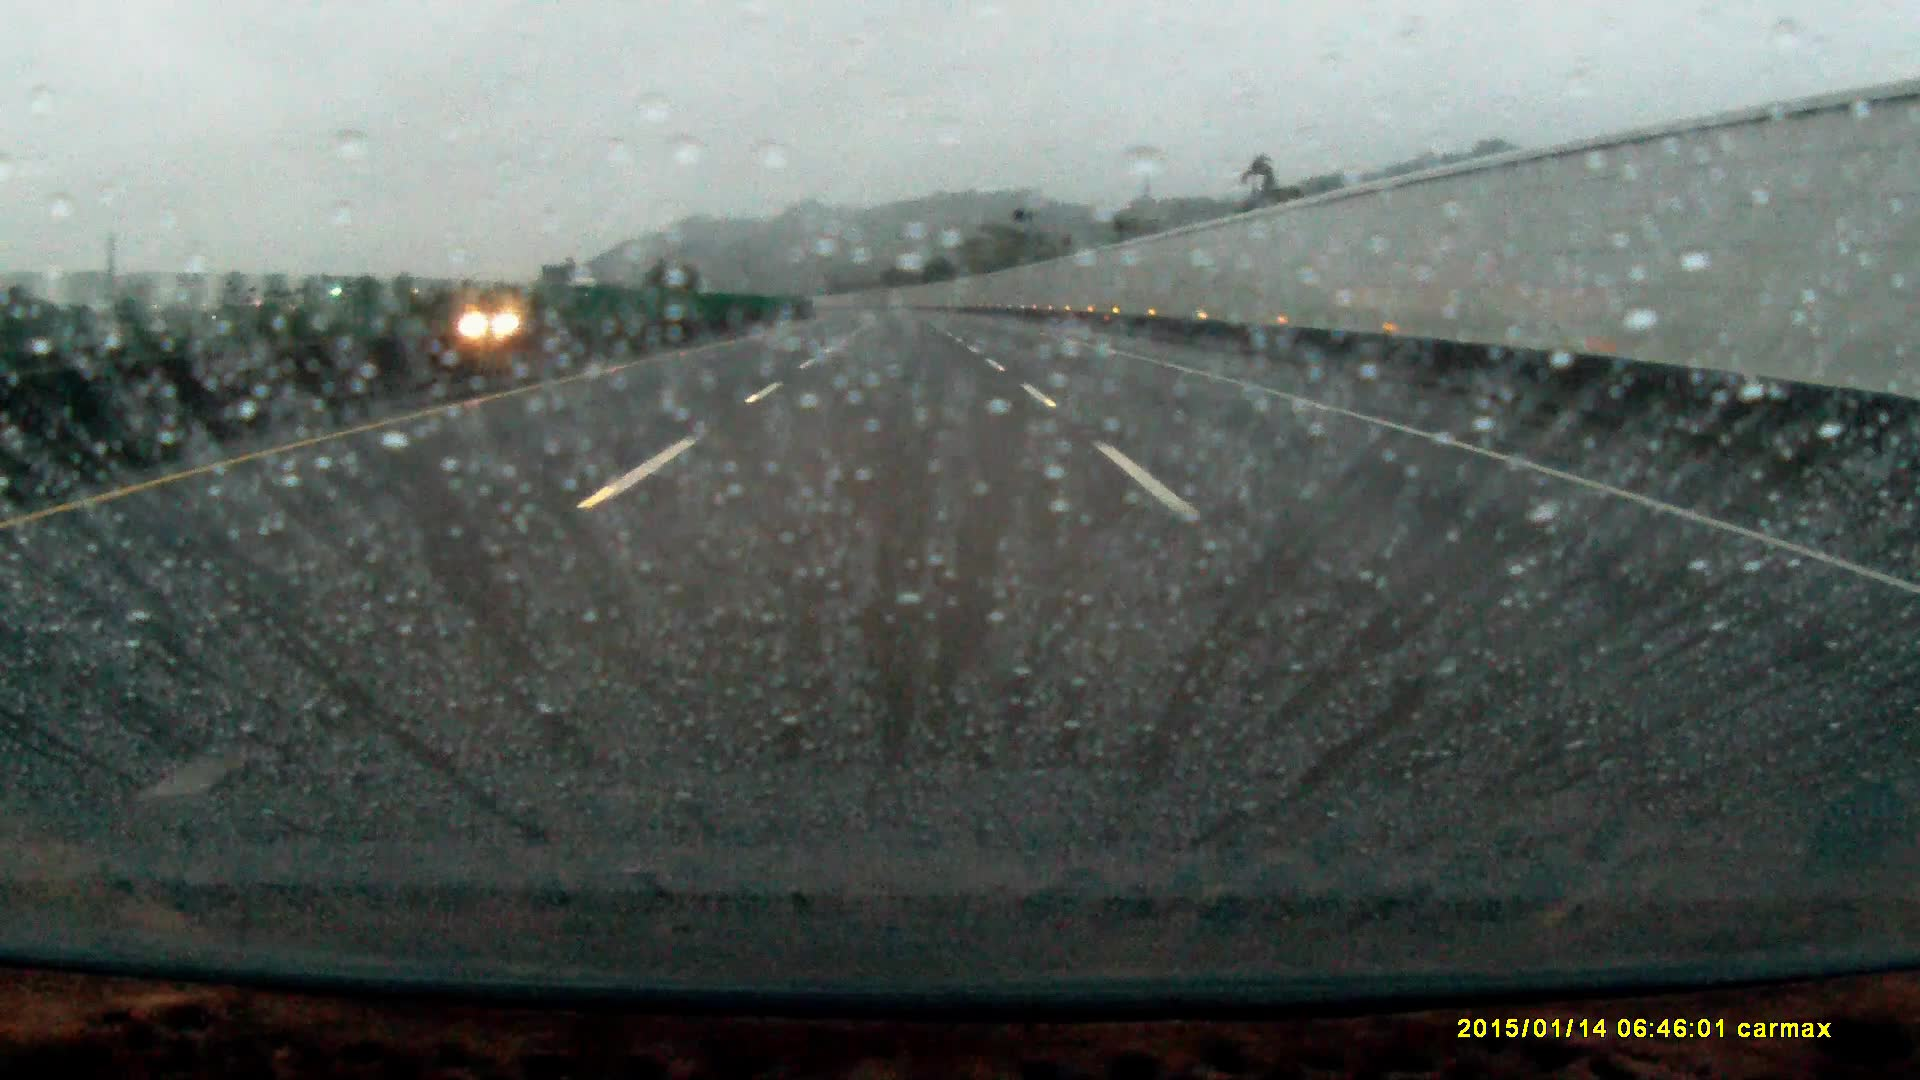vehicle: (460, 302, 541, 338)
